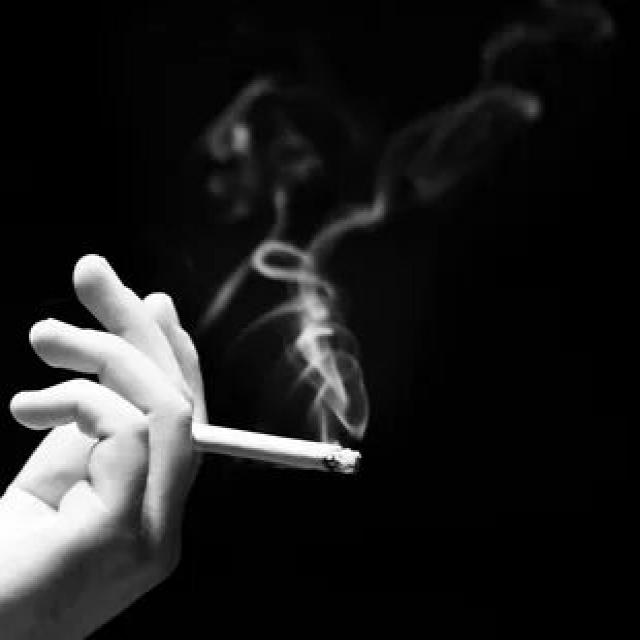smoke: (184, 414, 367, 478)
